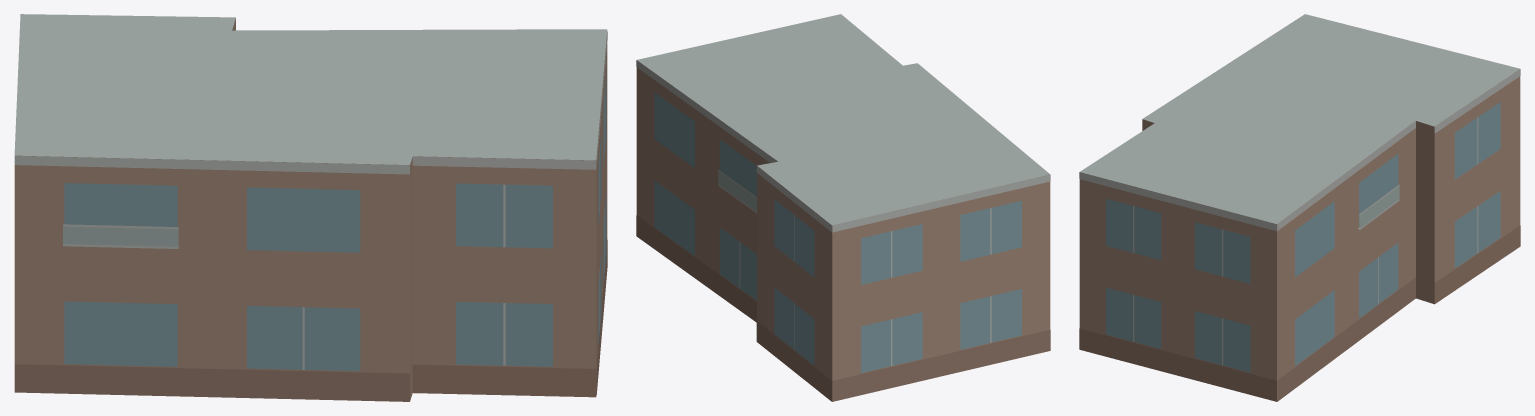
Rendered from survey-upis-32803142.glb.
3 views of the same model, side by side, from view 1: azimuth 30°, elevation 25°; view 2: azimuth 150°, elevation 25°; view 3: azimuth 270°, elevation 25° (orthographic). The views are drawn at different scales.
Parts seen in each view (by area): view 1: survey-upis-32803142.tmp; view 2: survey-upis-32803142.tmp; view 3: survey-upis-32803142.tmp.
Boxes of the visible parts, x1,y1,x2,y2 form: survey-upis-32803142.tmp: (14,14,607,401); survey-upis-32803142.tmp: (636,14,1050,401); survey-upis-32803142.tmp: (1079,14,1520,401).
Size of the model in its own units: 15.49 by 6.1 by 13.73.
